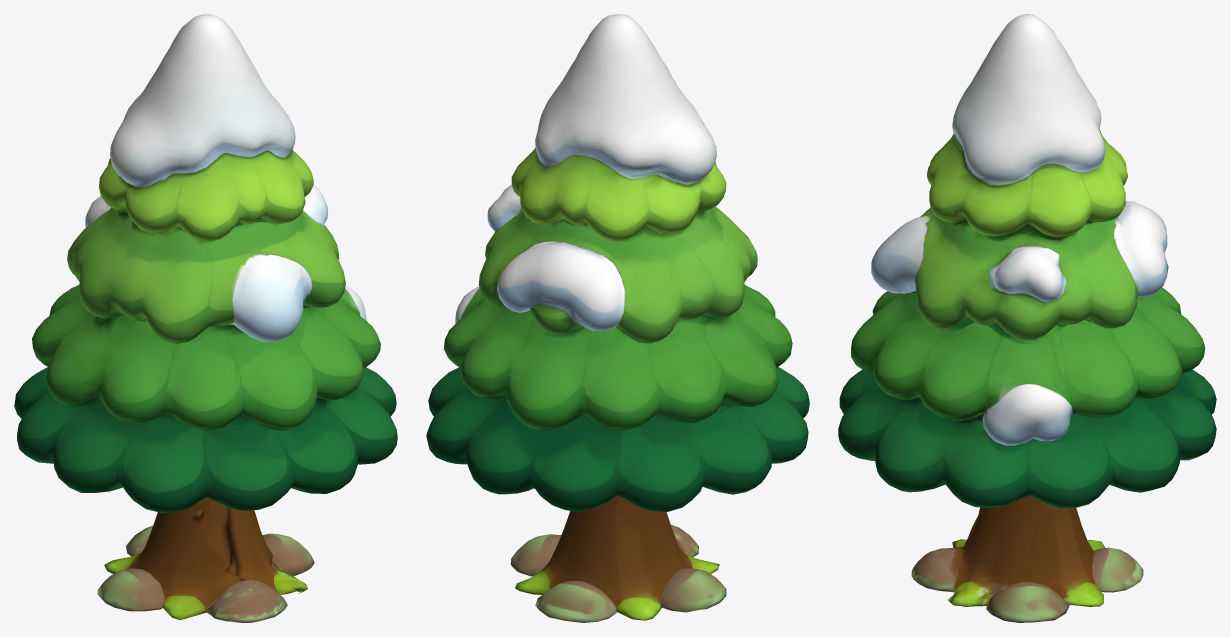
Rendered from pine_tree.glb.
3 renders of one model, left to right at view 1: azimuth 30°, elevation 25°; view 2: azimuth 150°, elevation 25°; view 3: azimuth 270°, elevation 25°, orthographic.
Visible parts, largest first — view 1: Mesh_0.005; view 2: Mesh_0.005; view 3: Mesh_0.005.
Part boxes in pixels (x1=…): Mesh_0.005: x1=14, y1=14, x2=397, y2=622; Mesh_0.005: x1=426, y1=14, x2=809, y2=622; Mesh_0.005: x1=838, y1=14, x2=1216, y2=622.
Size of the model in its own units: 0.0737 by 0.12 by 0.0737.
1 material, 1 textured.
